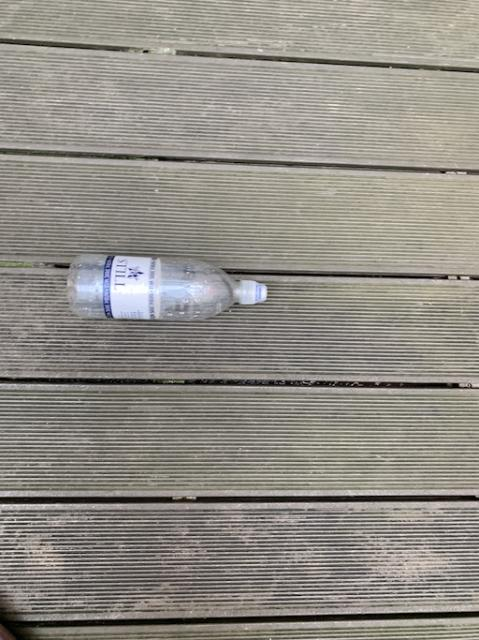plastic: (67, 254, 266, 319)
